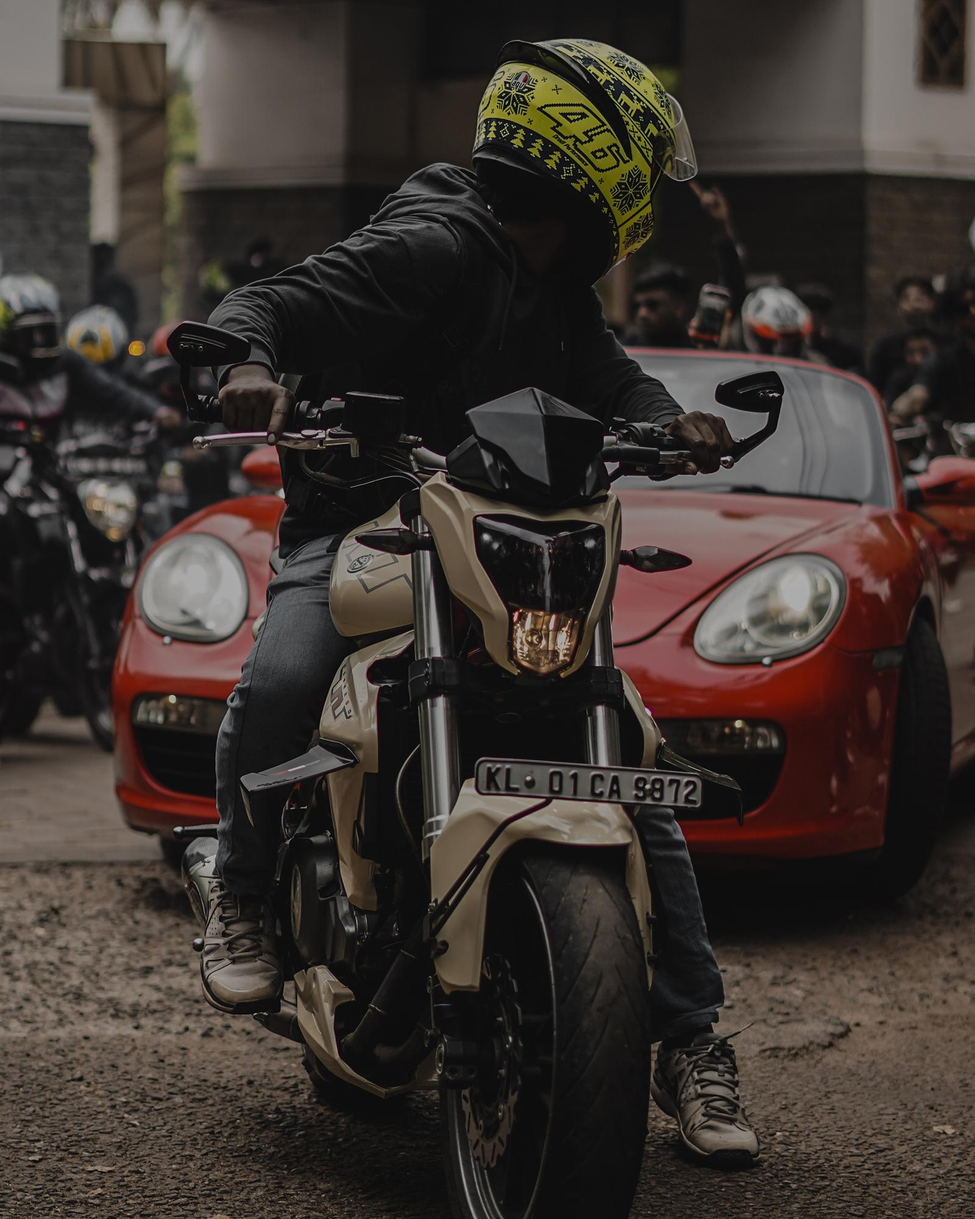helmet: (469, 35, 701, 304)
